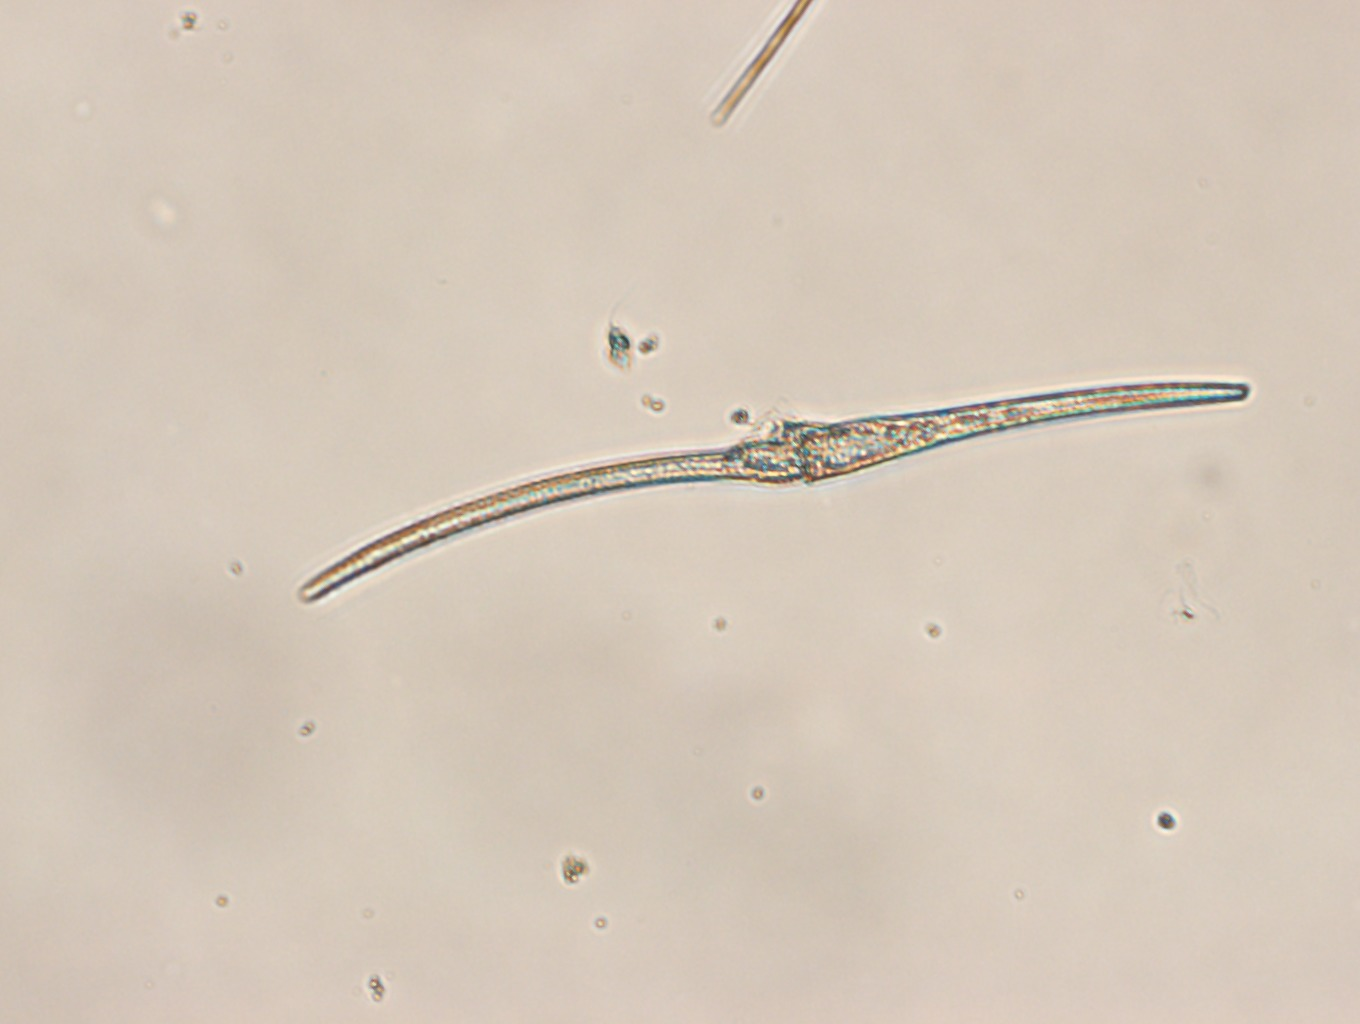ceratium fusus: (291, 382, 1252, 602)
